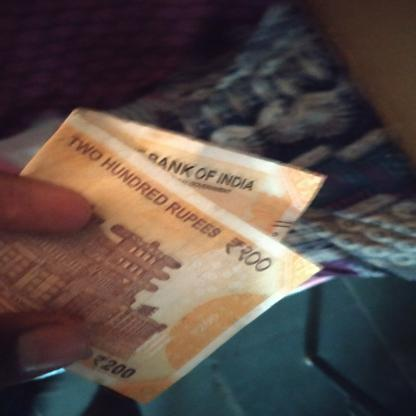New200Back: (5, 125, 270, 386)
